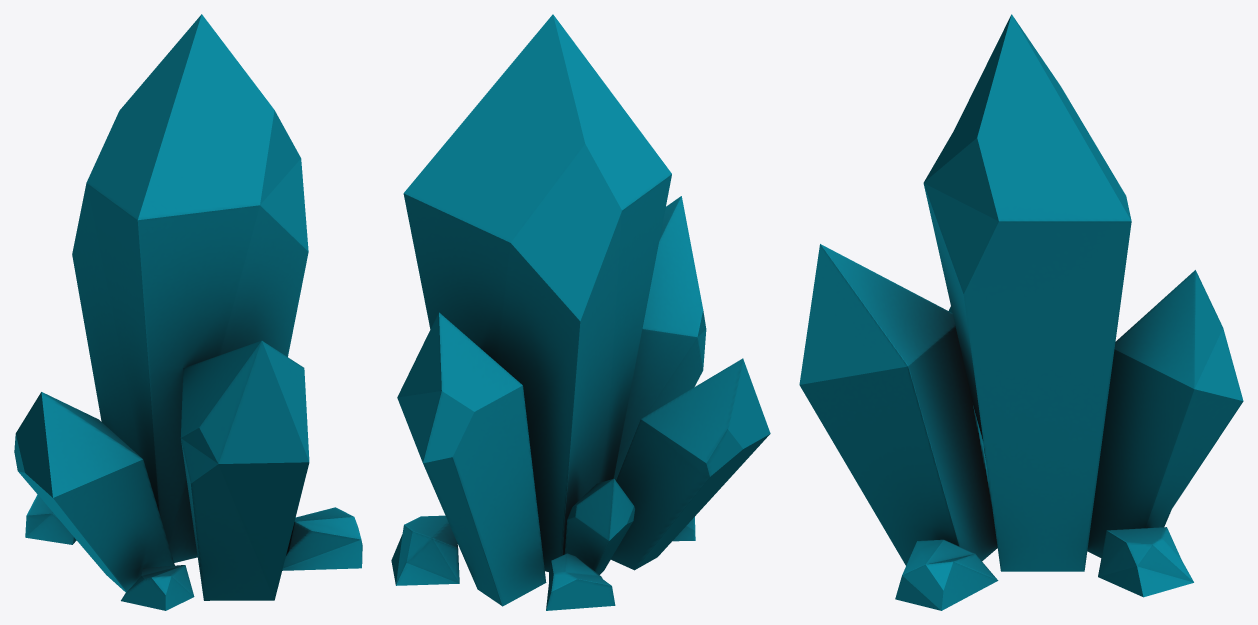
Rendered from Alchemy Crystal 10.fbx.
3 views of the same model, side by side, from view 1: azimuth 30°, elevation 25°; view 2: azimuth 150°, elevation 25°; view 3: azimuth 270°, elevation 25° (orthographic). The views are drawn at different scales.
Visible parts, largest first — view 1: Alchemy_Crystal_10; view 2: Alchemy_Crystal_10; view 3: Alchemy_Crystal_10.
Boxes of the visible parts, <box> form: Alchemy_Crystal_10: <box>14,14,362,610</box>; Alchemy_Crystal_10: <box>391,14,770,610</box>; Alchemy_Crystal_10: <box>799,14,1243,610</box>.
Size of the model in its own units: 8.01 by 13.69 by 9.9.
1 material, 1 textured.
